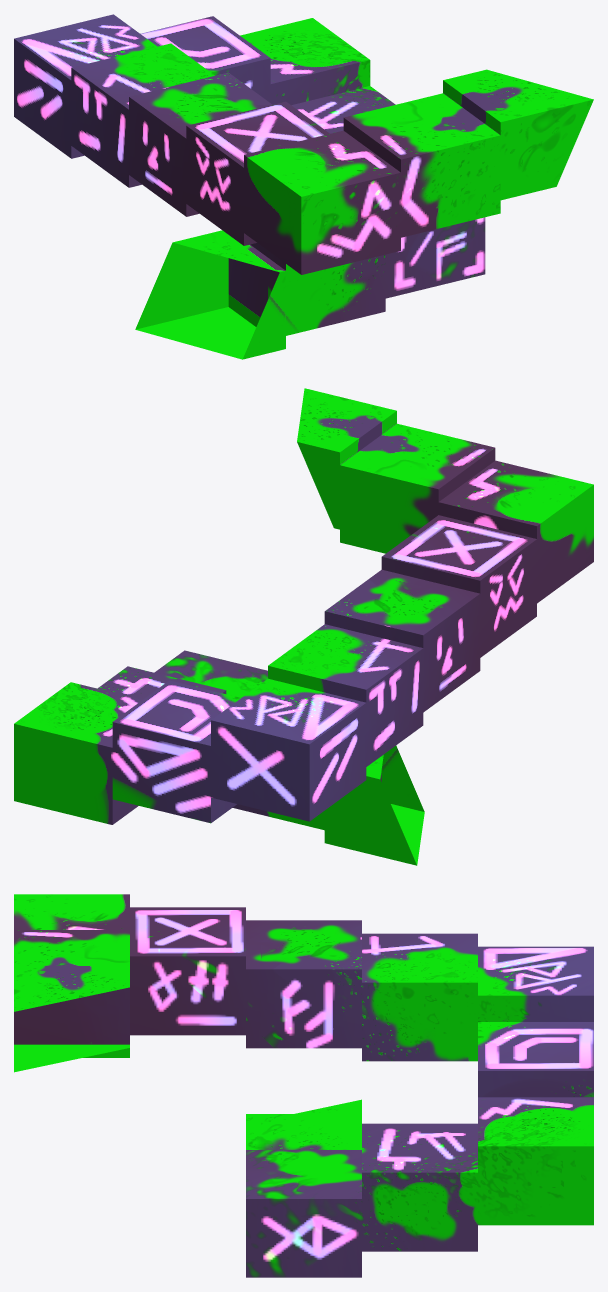
The model's file is Stair.fbx.
The picture shows the model from 3 angles, top to bottom: view 1: azimuth 30°, elevation 25°; view 2: azimuth 150°, elevation 25°; view 3: azimuth 270°, elevation 25°; orthographic projection.
Visible parts, largest first — view 1: Stair; view 2: Stair; view 3: Stair.
Boxes of the visible parts, x1,y1,x2,y2 form: Stair: (14,14,593,359); Stair: (14,388,593,865); Stair: (14,894,593,1277).
Size of the model in its own units: 750 by 688 by 1250.
Materials: 1 (1 with a texture image).
